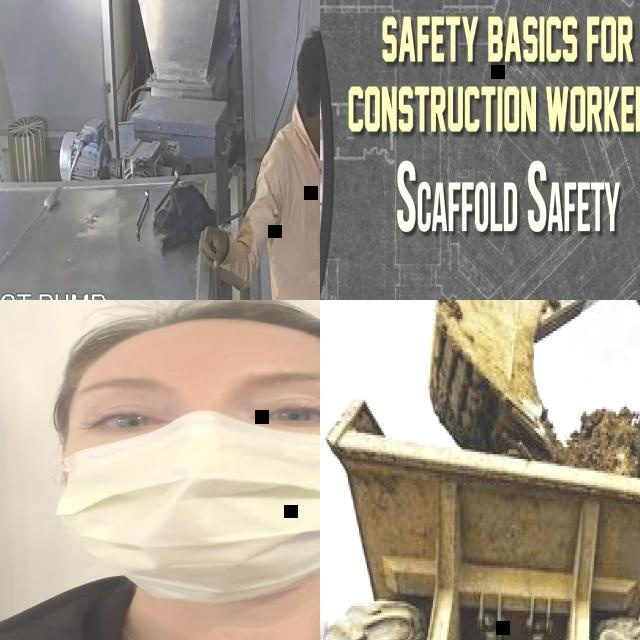Mask: (55, 427, 320, 603)
NO-Hardhat: (60, 300, 320, 377), (297, 27, 320, 71)
NO-Safety Vest: (267, 128, 320, 300)
Person: (0, 300, 320, 640), (196, 23, 320, 300)
machinery: (320, 397, 640, 640), (428, 300, 640, 640)
